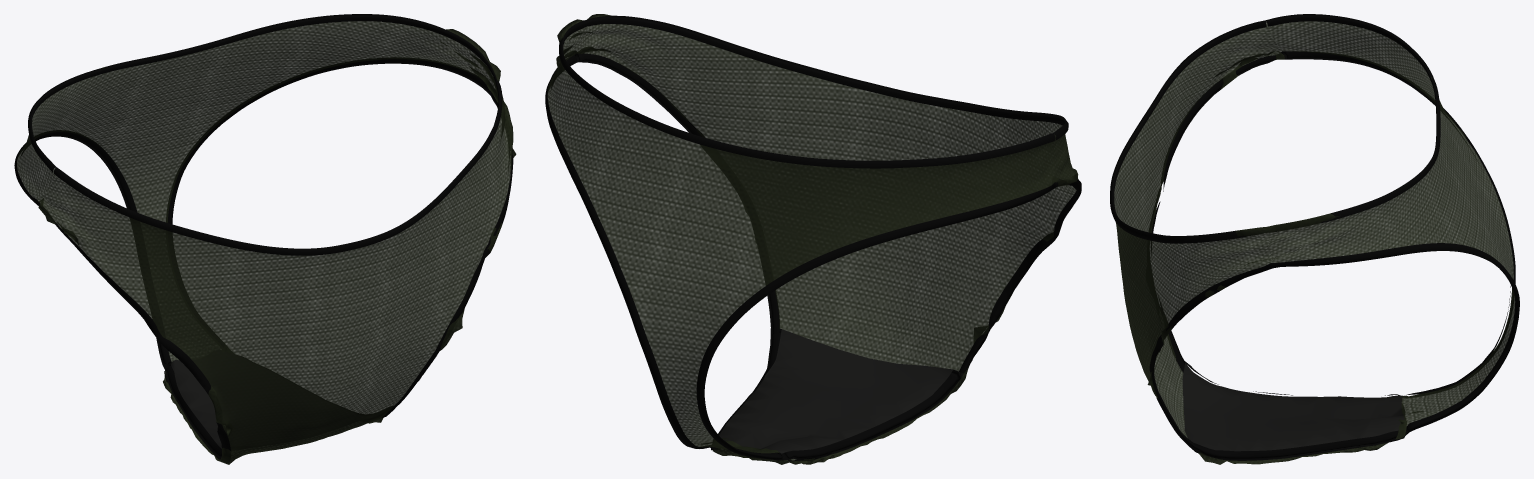
File: wide.glb
3 views of the same model, side by side, from view 1: azimuth 30°, elevation 25°; view 2: azimuth 150°, elevation 25°; view 3: azimuth 270°, elevation 25° (orthographic). The views are drawn at different scales.
Parts seen in each view (by area): view 1: Cloth; view 2: Cloth; view 3: Cloth.
Boxes of the visible parts, box(x1,y1,x2,y2) form: Cloth: box(14, 14, 516, 464); Cloth: box(545, 14, 1081, 464); Cloth: box(1110, 14, 1519, 464).
Bounding box in the file's own units: 0.3054 × 0.2093 × 0.241.
Materials: 4 (4 with a texture image).
